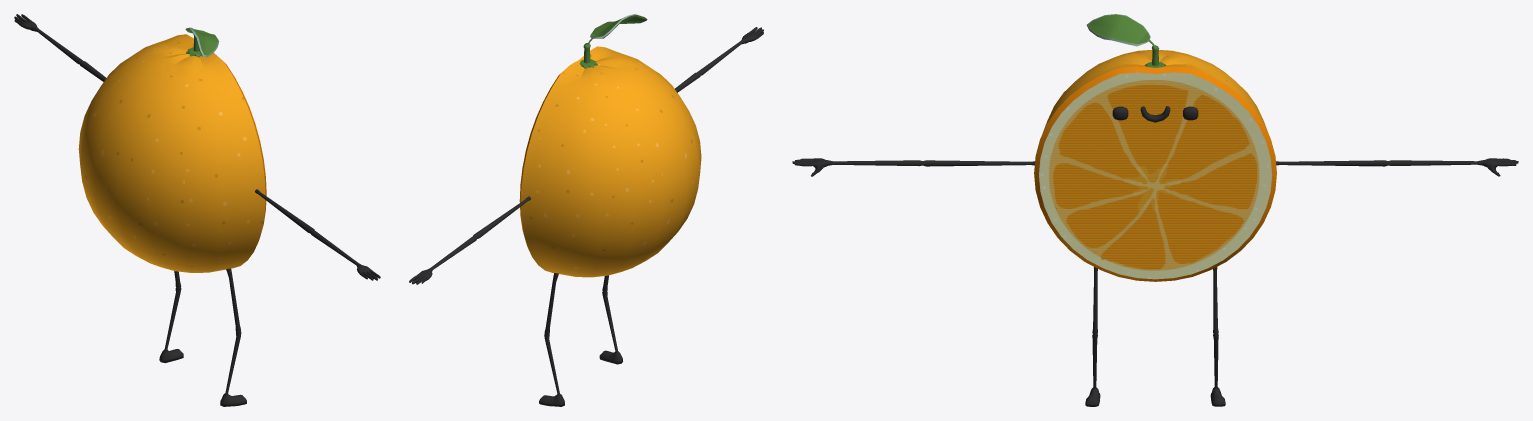
The model's file is Orange Character.glb.
3 views of the same model, side by side, from view 1: azimuth 30°, elevation 25°; view 2: azimuth 150°, elevation 25°; view 3: azimuth 270°, elevation 25° (orthographic). The views are drawn at different scales.
Parts seen in each view (by area): view 1: _100Avatars_175_CoolOrange; view 2: _100Avatars_175_CoolOrange; view 3: _100Avatars_175_CoolOrange.
Part boxes in pixels (x1=…): _100Avatars_175_CoolOrange: x1=14, y1=14, x2=380, y2=406; _100Avatars_175_CoolOrange: x1=409, y1=14, x2=763, y2=406; _100Avatars_175_CoolOrange: x1=792, y1=14, x2=1518, y2=406.
Bounding box in the file's own units: 1.52 × 4.41 × 7.77.
1 material, 1 textured.
